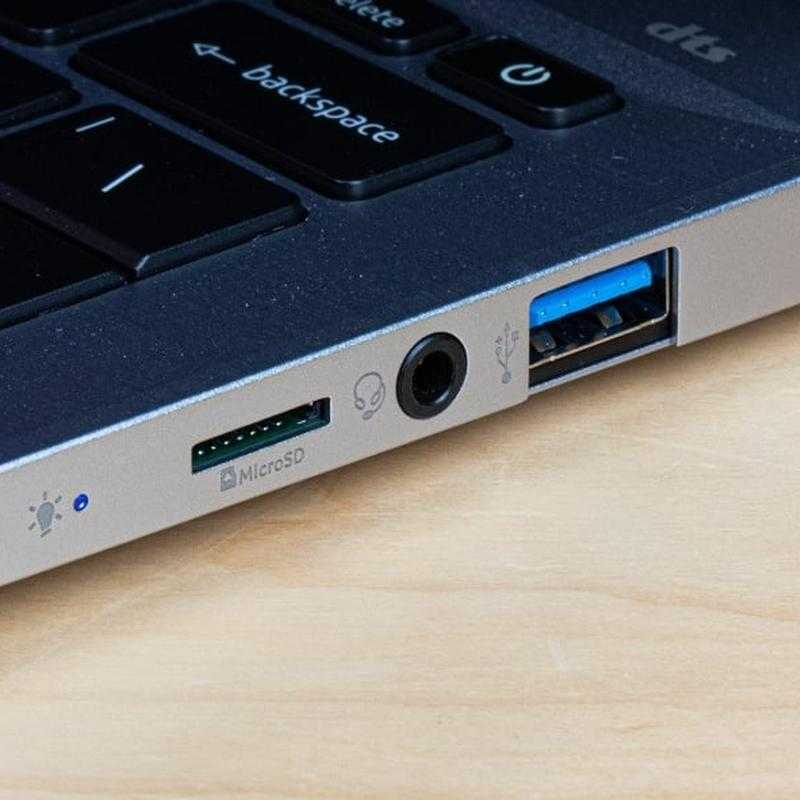AUDIO: (354, 317, 473, 444)
USB: (507, 238, 695, 390)
